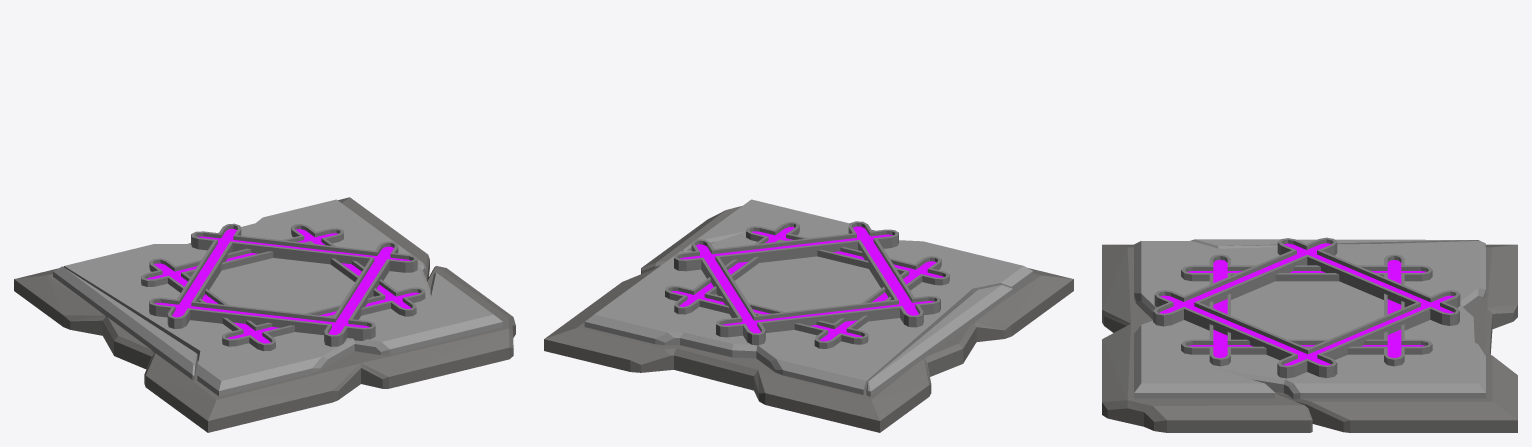
File: plate_8.fbx
3 views of the same model, side by side, from view 1: azimuth 30°, elevation 25°; view 2: azimuth 150°, elevation 25°; view 3: azimuth 270°, elevation 25° (orthographic). The views are drawn at different scales.
Visible parts, largest first — view 1: plate_8, plate_base_8, Куб.117; view 2: plate_8, plate_base_8, Куб.117; view 3: plate_8, plate_base_8, Куб.117.
Part boxes in pixels (box(x1,y1,x2,y2)): plate_8: box(53, 199, 502, 396); plate_base_8: box(14, 197, 515, 432); Куб.117: box(141, 223, 425, 351); plate_8: box(584, 199, 1033, 396); plate_base_8: box(544, 206, 1073, 432); Куб.117: box(665, 221, 949, 348); plate_8: box(1134, 239, 1485, 399); plate_base_8: box(1102, 244, 1517, 432); Куб.117: box(1153, 237, 1460, 378).
Bounding box in the file's own units: 1.3 × 1.11 × 1.3.
